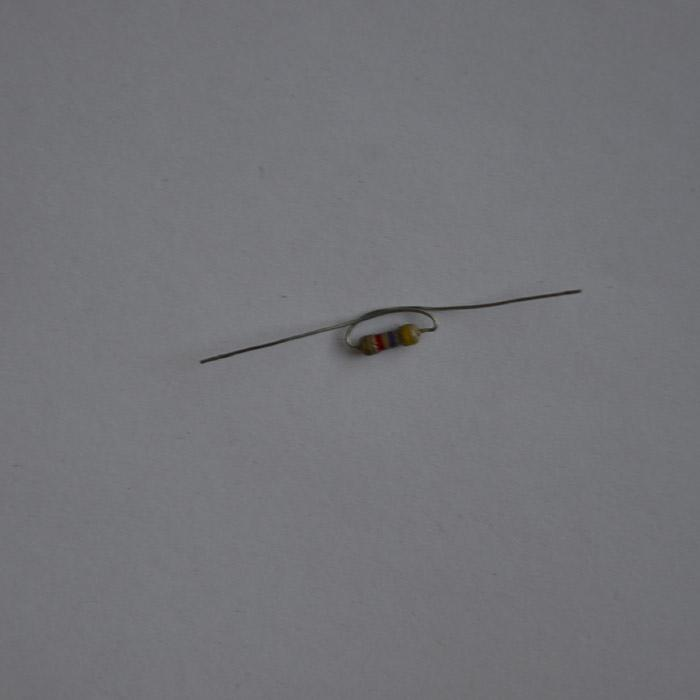resistor: (356, 323, 422, 356)
